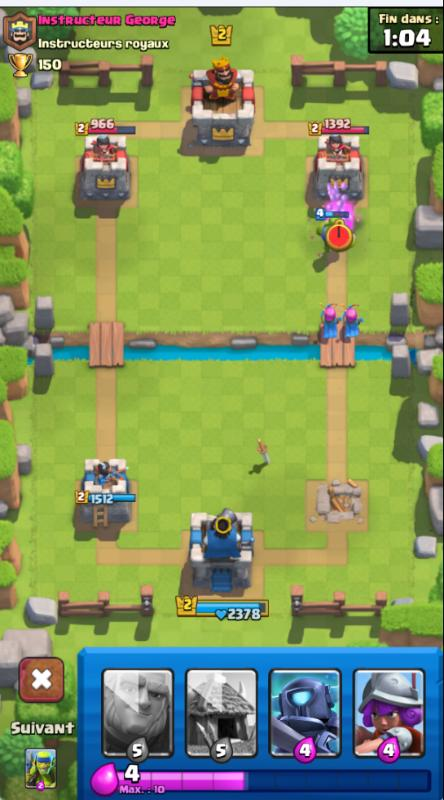archere: (317, 299, 342, 343), (342, 300, 364, 343)
